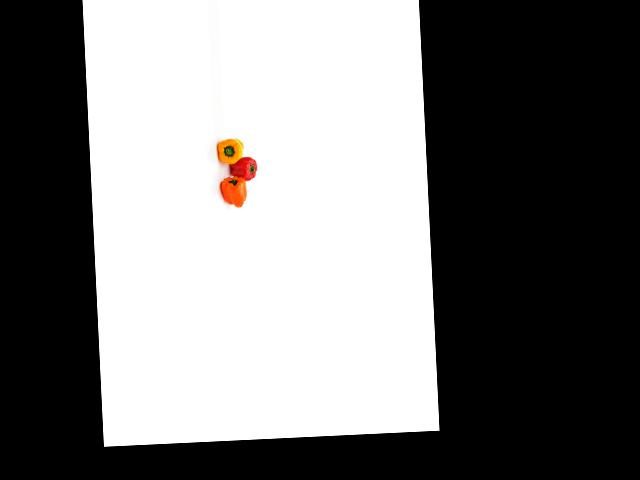bell_pepper: (216, 136, 245, 168)
